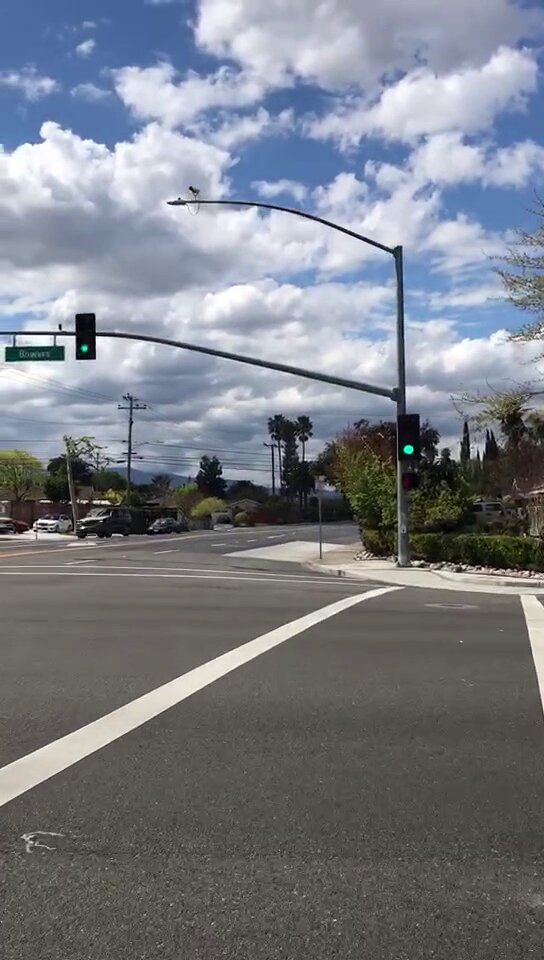green_light: (399, 416, 419, 462), (76, 314, 94, 357)
